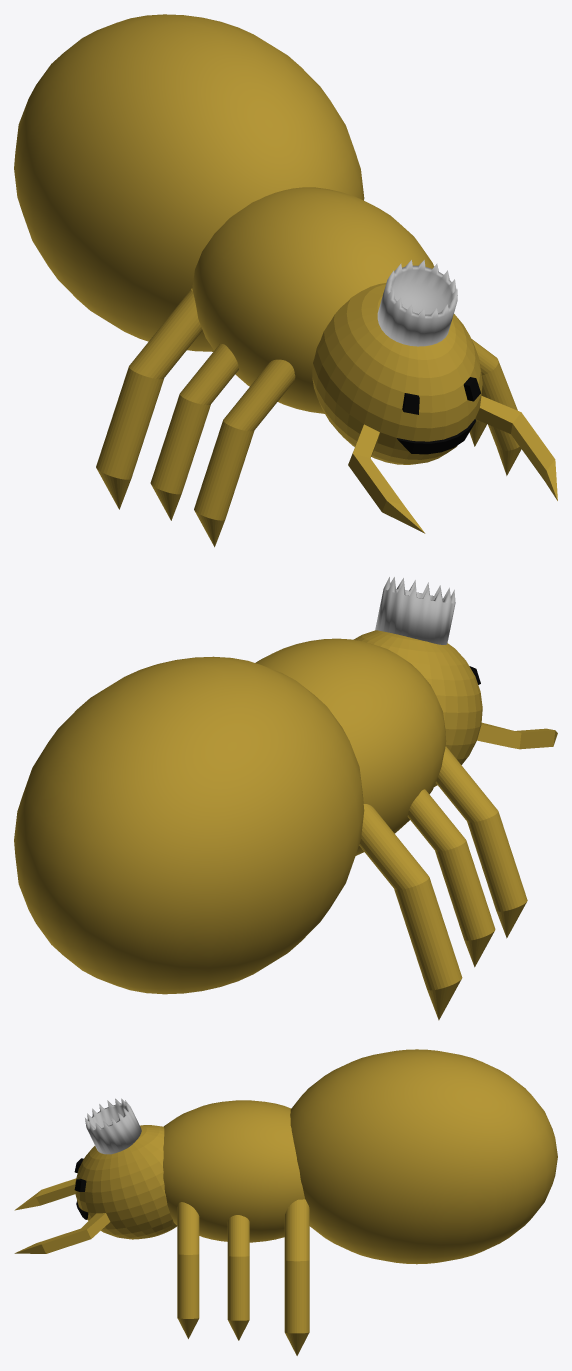
File: Model_Defender_Basic_HealthUpgrade.fbx
The picture shows the model from 3 angles, top to bottom: view 1: azimuth 30°, elevation 25°; view 2: azimuth 150°, elevation 25°; view 3: azimuth 270°, elevation 25°; orthographic projection. The views are drawn at different scales.
Parts seen in each view (by area): view 1: Sphere, Sphere.001, Sphere.002, Cylinder, Cylinder.001; view 2: Sphere, Cylinder, Sphere.001, Sphere.002, Cylinder.001; view 3: Sphere, Sphere.001, Sphere.002, Cylinder, Cylinder.001.
Part boxes in pixels (bbox=[...]): Sphere: bbox=[14, 14, 364, 351]; Sphere.001: bbox=[192, 187, 434, 413]; Sphere.002: bbox=[312, 283, 557, 533]; Cylinder: bbox=[96, 288, 521, 547]; Cylinder.001: bbox=[377, 260, 457, 346]; Sphere: bbox=[14, 656, 364, 994]; Cylinder: bbox=[359, 746, 527, 1020]; Sphere.001: bbox=[255, 638, 446, 855]; Sphere.002: bbox=[353, 630, 557, 786]; Cylinder.001: bbox=[375, 577, 455, 644]; Sphere: bbox=[290, 1049, 557, 1264]; Sphere.001: bbox=[163, 1100, 304, 1242]; Sphere.002: bbox=[14, 1125, 176, 1253]; Cylinder: bbox=[177, 1199, 309, 1355]; Cylinder.001: bbox=[85, 1098, 141, 1154].
Bounding box in the file's own units: 258 × 252 × 506.
